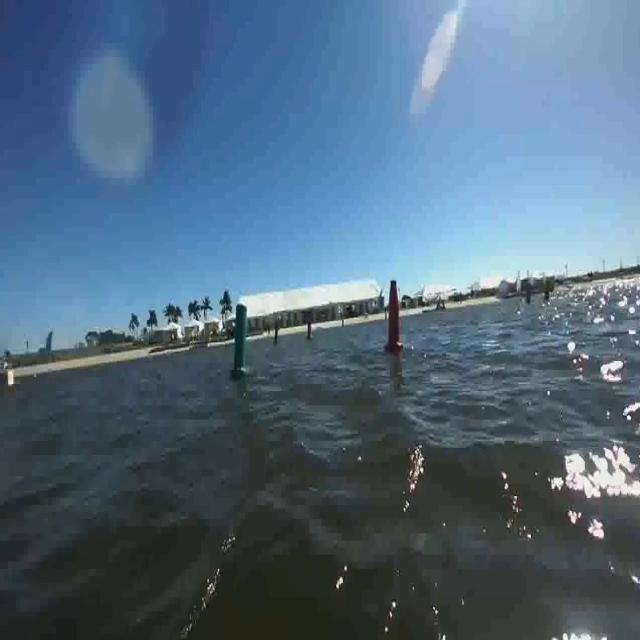green-column-buoy: (230, 303, 252, 380), (274, 321, 281, 344)
red-column-buoy: (384, 277, 404, 353), (307, 317, 314, 340)
